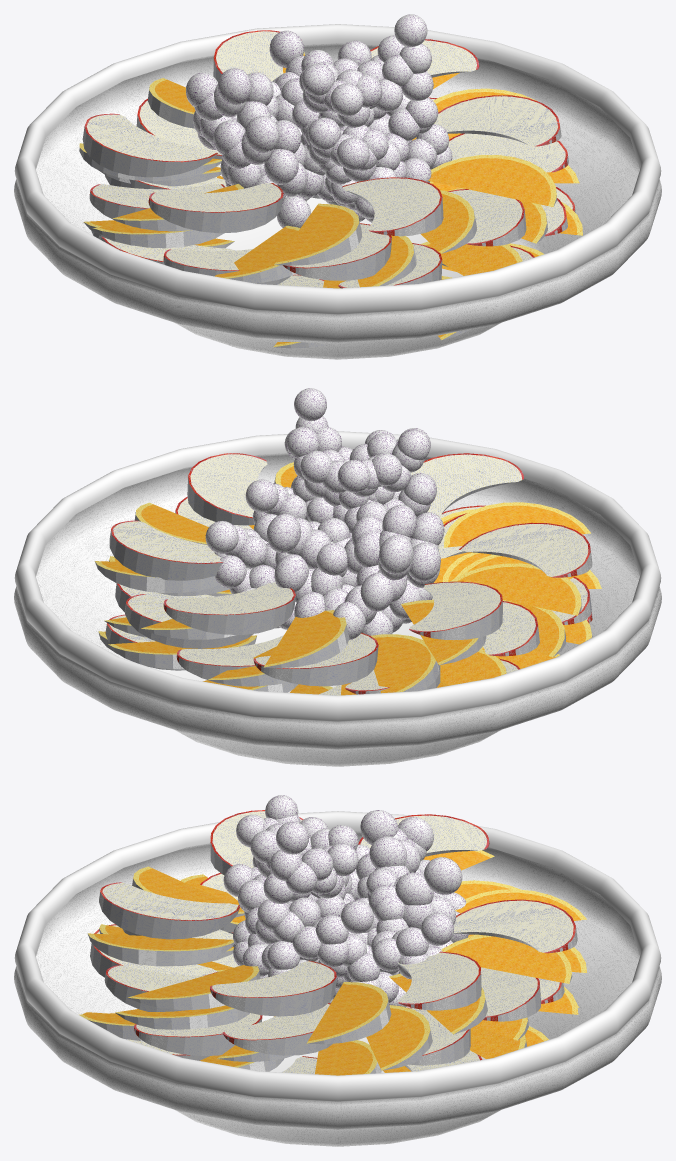
3 views of the same model, one above another, from view 1: azimuth 30°, elevation 25°; view 2: azimuth 150°, elevation 25°; view 3: azimuth 270°, elevation 25° (orthographic).
Visible parts, largest first — view 1: SketchUp (×3), Component_1 (×20), Component_3 (×29), Component_2 (×17); view 2: SketchUp (×3), Component_1 (×17), Component_3 (×28), Component_2 (×15); view 3: SketchUp (×2), Component_1 (×20), Component_3 (×31), Component_2 (×19).
Boxes of the visible parts, bbox=[...] form: SketchUp (×3): bbox=[14, 24, 661, 359]; Component_1 (×20): bbox=[82, 31, 565, 287]; Component_3 (×29): bbox=[186, 14, 449, 228]; Component_2 (×17): bbox=[79, 79, 556, 287]; SketchUp (×3): bbox=[14, 431, 661, 766]; Component_1 (×17): bbox=[109, 454, 588, 686]; Component_3 (×28): bbox=[205, 388, 444, 639]; Component_2 (×15): bbox=[95, 502, 590, 693]; SketchUp (×2): bbox=[14, 811, 661, 1146]; Component_1 (×20): bbox=[97, 811, 573, 1065]; Component_3 (×31): bbox=[223, 795, 462, 981]; Component_2 (×19): bbox=[88, 851, 586, 1075].
Size of the model in its own units: 19.54 by 19.54 by 8.77.
